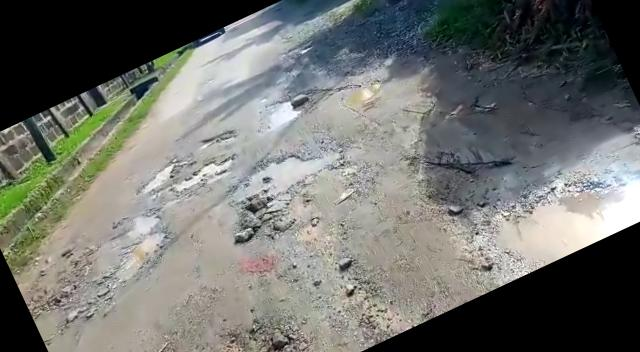pothole: (477, 132, 640, 282), (227, 130, 350, 212), (81, 210, 183, 296), (172, 150, 239, 194), (130, 158, 188, 198), (257, 95, 308, 135), (196, 124, 239, 153)
